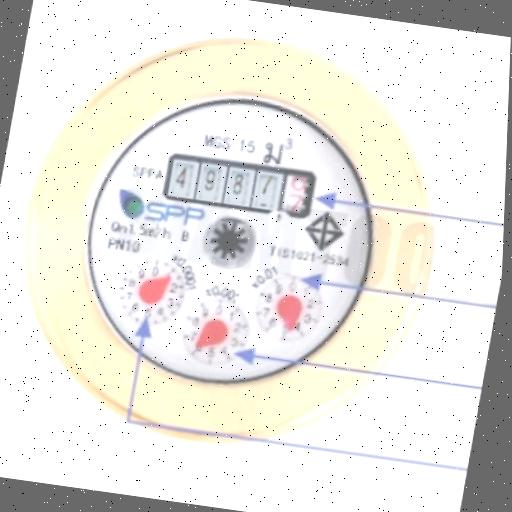4: (170, 163, 192, 198)
6: (283, 175, 309, 214)
7: (255, 175, 277, 209)
8: (228, 170, 249, 205)
9: (199, 167, 221, 201)
border_water_meter_number: (160, 151, 319, 222)
